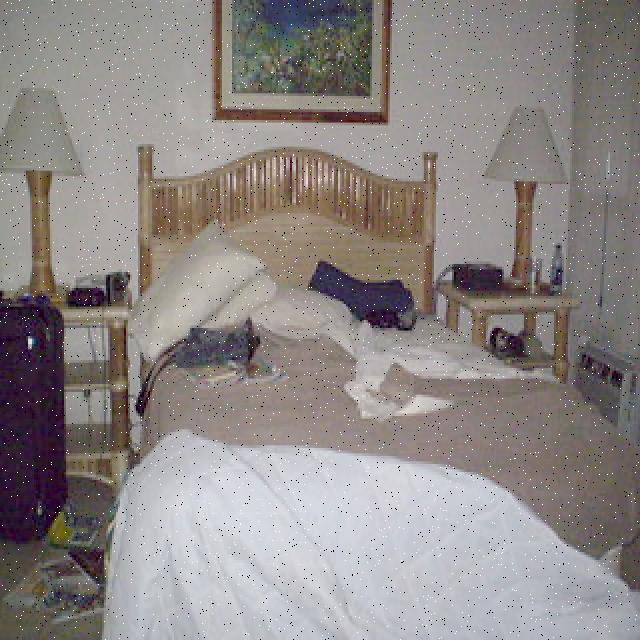bed: (102, 218, 640, 640)
